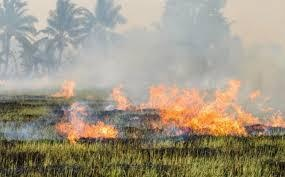fire: (132, 78, 285, 137), (51, 79, 119, 143)
